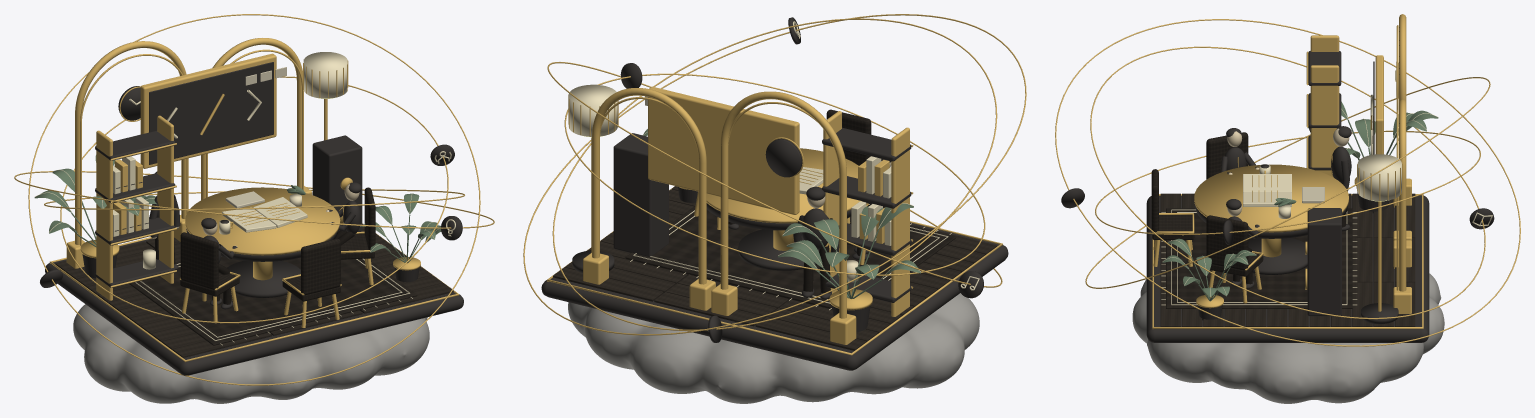
The model's file is impact.glb.
3 views of the same model, side by side, from view 1: azimuth 30°, elevation 25°; view 2: azimuth 150°, elevation 25°; view 3: azimuth 270°, elevation 25° (orthographic). The views are drawn at different scales.
Parts seen in each view (by area): view 1: impact_puffy_cloud, impact_Woven charcoal_layer_0, impact_Obsidian_layer_0, hotspot_developit_Obsidian, impact_Smoked timber_layer_0, impact_Warm brass_layer_2, impact_Warm brass_layer_3, impact_Warm brass_layer_4, impact_Woven charcoal_layer_2, hotspot_studio_Obsidian, impact_Warm brass_layer_1, hotspot_developit_Warm brass (+19 smaller); view 2: impact_puffy_cloud, impact_Smoked timber_layer_0, hotspot_developit_Warm brass, impact_Obsidian_layer_0, impact_Warm brass_layer_4, impact_Woven charcoal_layer_0, hotspot_studio_Obsidian, impact_Warm brass_layer_3, impact_Warm brass_layer_1, impact_Warm brass_layer_2, orbit_plane_3.001_Warm brass, impact_Obsidian_layer_4 (+18 smaller); view 3: impact_puffy_cloud, impact_Obsidian_layer_0, impact_Smoked timber_layer_0, impact_Woven charcoal_layer_0, impact_Warm brass_layer_2, impact_Warm brass_layer_3, hotspot_studio_Obsidian, impact_Warm brass_layer_4, impact_Woven charcoal_layer_2, impact_Warm brass_layer_1, orbit_plane_3.001_Warm brass, impact_Ivory_layer_4 (+16 smaller).
Boxes of the visible parts, left/top/right/bottom form: impact_puffy_cloud: left=73, top=304, right=429, bottom=403; impact_Woven charcoal_layer_0: left=129, top=257, right=417, bottom=345; impact_Obsidian_layer_0: left=45, top=238, right=463, bottom=375; hotspot_developit_Obsidian: left=149, top=62, right=273, bottom=164; impact_Smoked timber_layer_0: left=55, top=224, right=453, bottom=357; impact_Warm brass_layer_2: left=110, top=187, right=340, bottom=280; impact_Warm brass_layer_3: left=96, top=99, right=327, bottom=300; impact_Warm brass_layer_4: left=75, top=38, right=348, bottom=245; impact_Woven charcoal_layer_2: left=180, top=187, right=375, bottom=295; hotspot_studio_Obsidian: left=312, top=135, right=362, bottom=231; impact_Warm brass_layer_1: left=66, top=186, right=420, bottom=327; hotspot_developit_Warm brass: left=140, top=53, right=276, bottom=168; impact_puffy_cloud: left=568, top=293, right=979, bottom=403; impact_Smoked timber_layer_0: left=553, top=186, right=996, bottom=350; hotspot_developit_Warm brass: left=648, top=86, right=799, bottom=214; impact_Obsidian_layer_0: left=541, top=223, right=1008, bottom=370; impact_Warm brass_layer_4: left=568, top=88, right=913, bottom=318; impact_Woven charcoal_layer_0: left=625, top=206, right=956, bottom=308; hotspot_studio_Obsidian: left=613, top=133, right=668, bottom=256; impact_Warm brass_layer_3: left=591, top=111, right=913, bottom=316; impact_Warm brass_layer_1: left=583, top=187, right=913, bottom=344; impact_Warm brass_layer_2: left=706, top=148, right=913, bottom=250; orbit_plane_3.001_Warm brass: left=523, top=14, right=1026, bottom=335; impact_Obsidian_layer_4: left=765, top=127, right=911, bottom=177; impact_puffy_cloud: left=1132, top=273, right=1444, bottom=403; impact_Obsidian_layer_0: left=1146, top=195, right=1429, bottom=342; impact_Smoked timber_layer_0: left=1160, top=193, right=1415, bottom=326; impact_Woven charcoal_layer_0: left=1166, top=208, right=1352, bottom=308; impact_Warm brass_layer_2: left=1194, top=136, right=1348, bottom=257; impact_Warm brass_layer_3: left=1264, top=35, right=1381, bottom=311; hotspot_studio_Obsidian: left=1307, top=208, right=1341, bottom=316; impact_Warm brass_layer_4: left=1306, top=14, right=1406, bottom=291; impact_Woven charcoal_layer_2: left=1151, top=132, right=1248, bottom=270; impact_Warm brass_layer_1: left=1152, top=177, right=1411, bottom=313; orbit_plane_3.001_Warm brass: left=1055, top=19, right=1520, bottom=346; impact_Ivory_layer_4: left=1357, top=70, right=1401, bottom=200.
Bounding box in the file's own units: 5.69 × 3.91 × 5.69.
10 materials, 2 textured.
